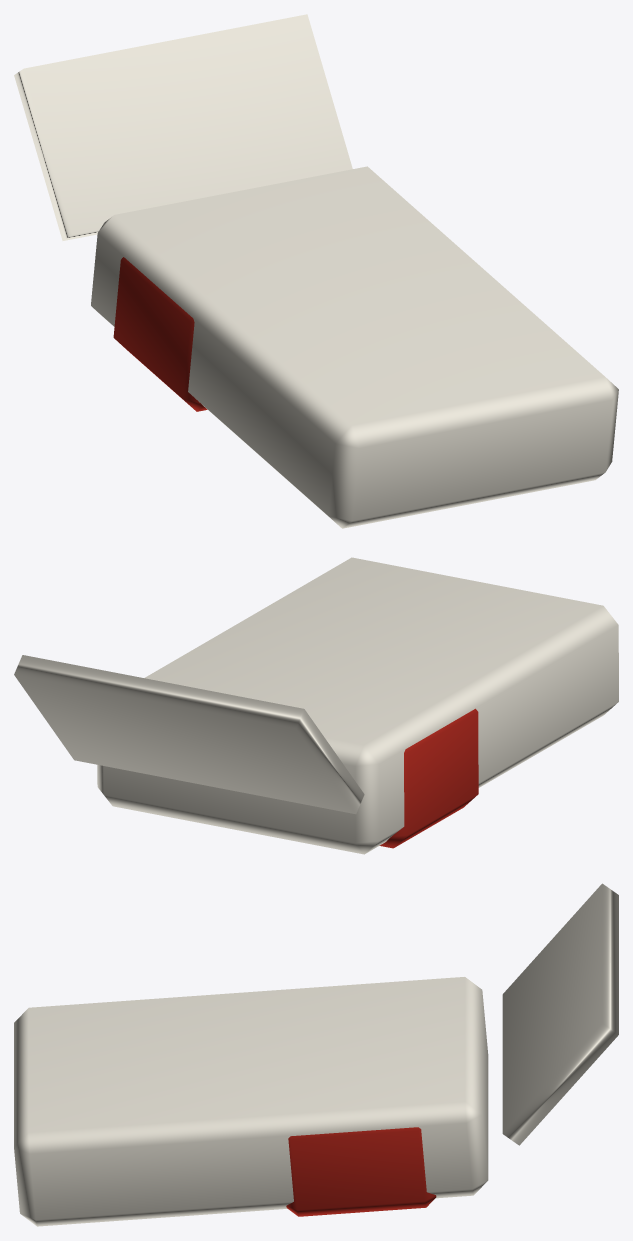
The model's file is smiec_paczka.glb.
3 renders of one model, top to bottom at view 1: azimuth 30°, elevation 25°; view 2: azimuth 150°, elevation 25°; view 3: azimuth 270°, elevation 25°, orthographic. The views are drawn at different scales.
Parts seen in each view (by area): view 1: Paczka; view 2: Paczka; view 3: Paczka.
Boxes of the visible parts, left/top/right/bottom form: Paczka: left=14, top=14, right=618, bottom=528; Paczka: left=14, top=557, right=618, bottom=854; Paczka: left=14, top=883, right=618, bottom=1226.
Size of the model in its own units: 0.0578 by 0.0469 by 0.1133.
